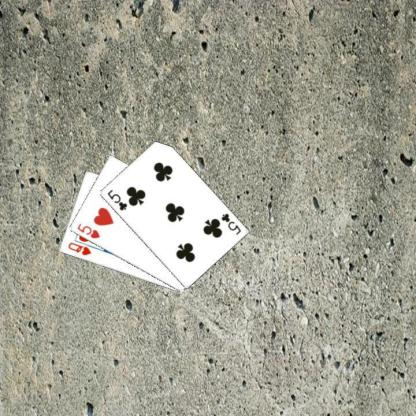5C: (218, 211, 242, 236), (105, 187, 128, 212)
5H: (75, 221, 101, 240)
QH: (65, 240, 92, 256)
